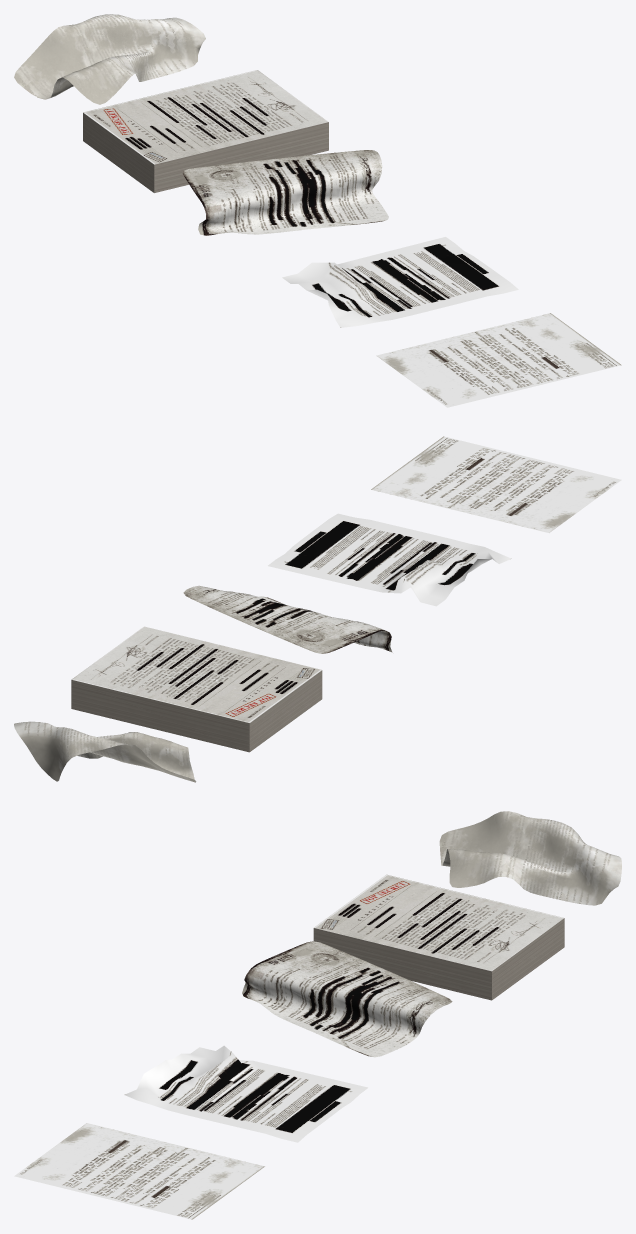
The model's file is paper_debris.glb.
3 views of the same model, one above another, from view 1: azimuth 30°, elevation 25°; view 2: azimuth 150°, elevation 25°; view 3: azimuth 330°, elevation 25° (orthographic). The views are drawn at different scales.
Parts seen in each view (by area): view 1: SM_A4_paper_pile, SM_A4_paper_fold_1, SM_A4_paper, SM_A4_paper_fold_2, SM_A4_paper_crumbled; view 2: SM_A4_paper_pile, SM_A4_paper, SM_A4_paper_fold_2, SM_A4_paper_fold_1, SM_A4_paper_crumbled; view 3: SM_A4_paper_pile, SM_A4_paper_fold_1, SM_A4_paper, SM_A4_paper_fold_2, SM_A4_paper_crumbled.
Boxes of the visible parts, x1,y1,x2,y2 form: SM_A4_paper_pile: (83,70,328,192); SM_A4_paper_fold_1: (182,150,388,235); SM_A4_paper: (376,313,621,407); SM_A4_paper_fold_2: (282,237,518,327); SM_A4_paper_crumbled: (14,14,205,104); SM_A4_paper_pile: (71,626,322,752); SM_A4_paper: (371,436,621,532); SM_A4_paper_fold_2: (268,513,511,606); SM_A4_paper_fold_1: (183,585,392,653); SM_A4_paper_crumbled: (14,721,196,782); SM_A4_paper_pile: (313,874,564,1000); SM_A4_paper_fold_1: (242,941,452,1057); SM_A4_paper: (14,1123,264,1219); SM_A4_paper_fold_2: (124,1045,367,1142); SM_A4_paper_crumbled: (439,811,621,905).
Size of the model in its own units: 32.41 by 8.04 by 132.
1 material, 1 textured.
